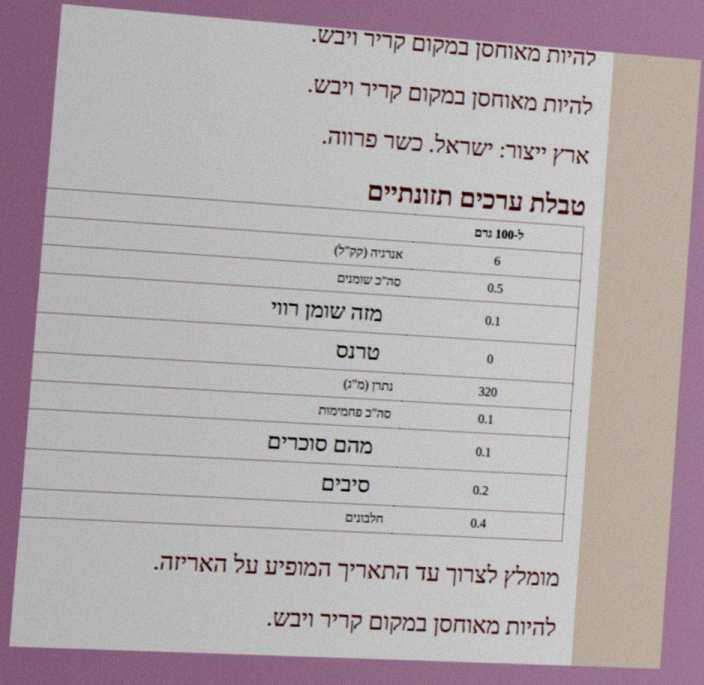carbs: (476, 410, 496, 428)
energy: (492, 253, 502, 270)
fat: (485, 279, 505, 297)
protein: (468, 515, 488, 532)
